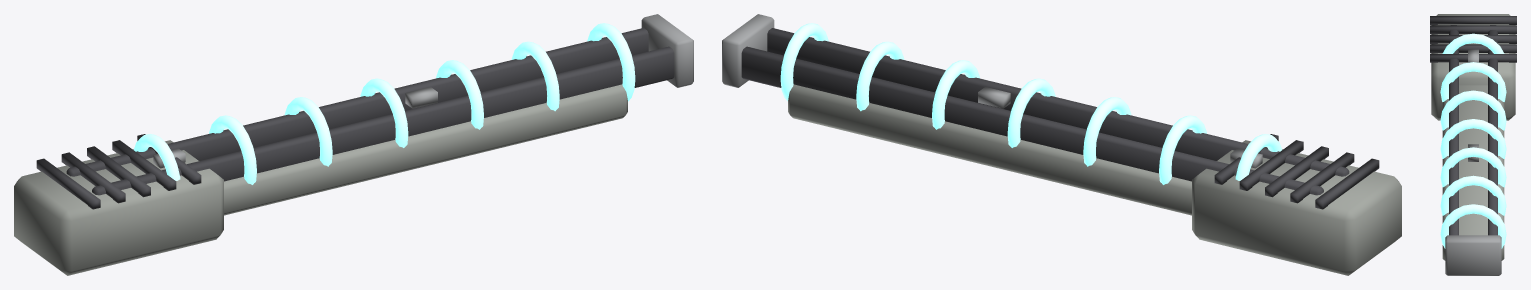
The model's file is exp_railgun.glb.
3 views of the same model, side by side, from view 1: azimuth 30°, elevation 25°; view 2: azimuth 150°, elevation 25°; view 3: azimuth 270°, elevation 25° (orthographic). The views are drawn at different scales.
Parts seen in each view (by area): view 1: exp_railgun; view 2: exp_railgun; view 3: exp_railgun.
Boxes of the visible parts, x1,y1,x2,y2 form: exp_railgun: [14, 14, 693, 275]; exp_railgun: [722, 14, 1401, 275]; exp_railgun: [1430, 14, 1516, 275].
Bounding box in the file's own units: 1.01 × 0.144 × 0.155.
